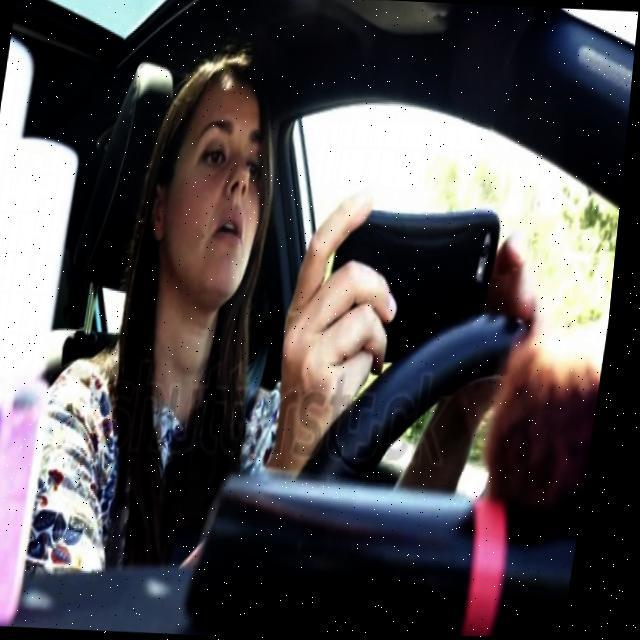PhoneCall: (327, 202, 508, 346)
